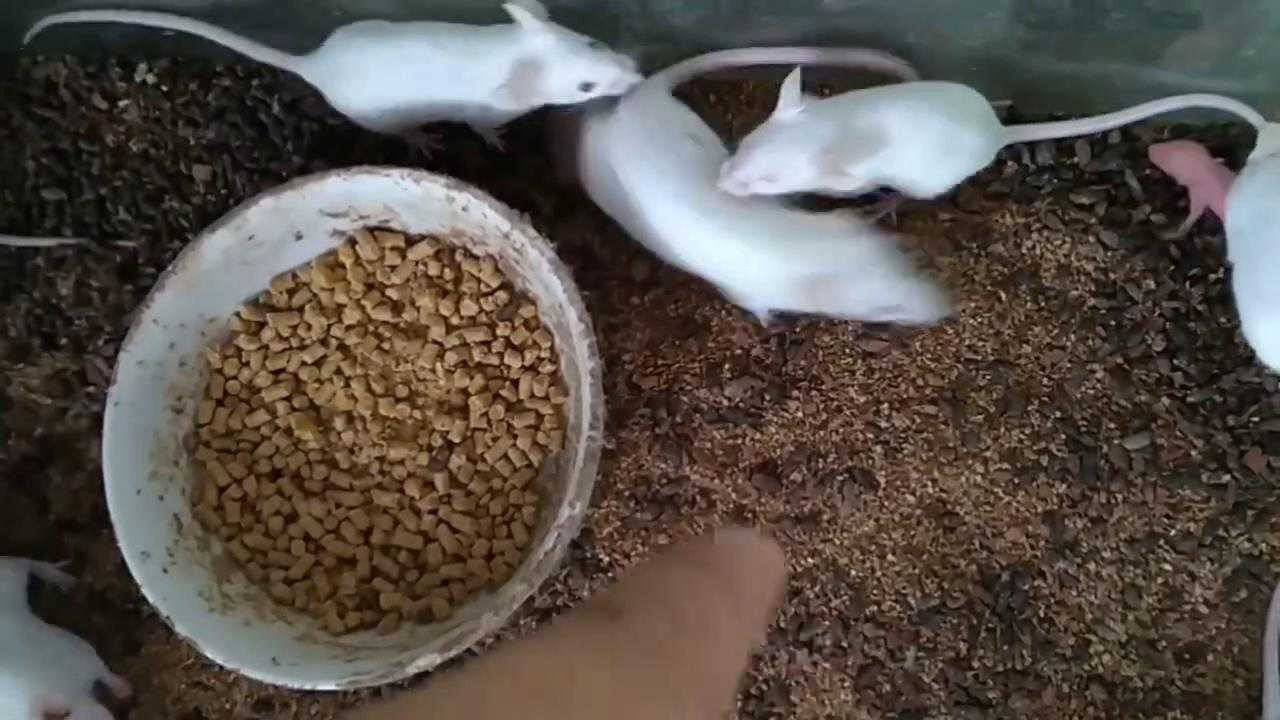rat: (578, 47, 958, 327), (21, 0, 644, 149), (719, 66, 1266, 227)
